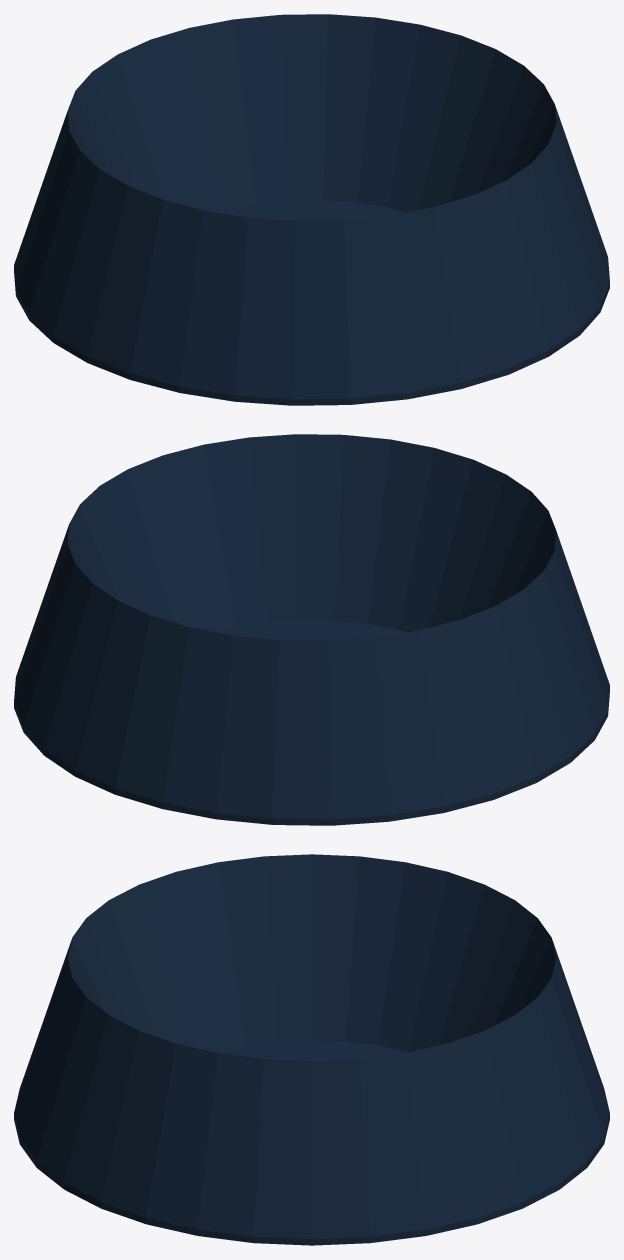
The model's file is SM_MP_Station_CollapsePit.fbx.
The picture shows the model from 3 angles, top to bottom: view 1: azimuth 30°, elevation 25°; view 2: azimuth 150°, elevation 25°; view 3: azimuth 270°, elevation 25°; orthographic projection.
Parts seen in each view (by area): view 1: SM_MP_Station_CollapsePit; view 2: SM_MP_Station_CollapsePit; view 3: SM_MP_Station_CollapsePit.
Boxes of the visible parts, bbox=[...] form: SM_MP_Station_CollapsePit: bbox=[14, 14, 609, 405]; SM_MP_Station_CollapsePit: bbox=[14, 434, 609, 825]; SM_MP_Station_CollapsePit: bbox=[14, 854, 609, 1245].
Size of what is drawn, in the model's own units: 500 by 500 by 150.
